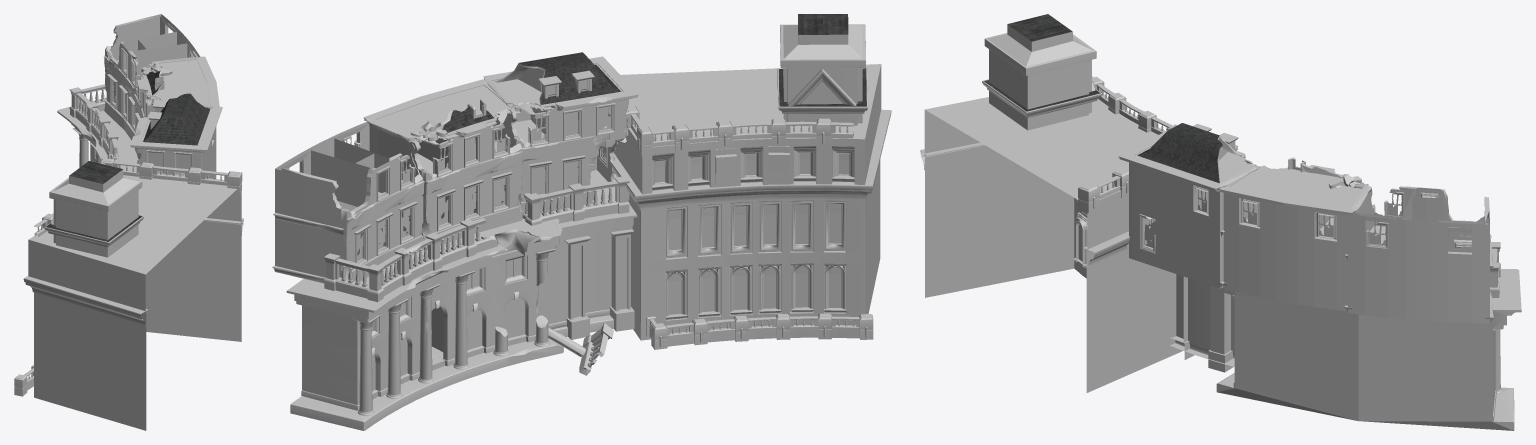
Rendered from Boss_Buildinga.fbx.
The picture shows the model from 3 angles, left to right: view 1: azimuth 30°, elevation 25°; view 2: azimuth 150°, elevation 25°; view 3: azimuth 270°, elevation 25°; orthographic projection. The views are drawn at different scales.
Parts seen in each view (by area): view 1: LODGroup_1_MainMesh_1_SubMesh_7, LODGroup_1_MainMesh_1_SubMesh_3, LODGroup_1_MainMesh_1_SubMesh_5, LODGroup_1_MainMesh_1_SubMesh_6, LODGroup_1_MainMesh_1_SubMesh_1, LODGroup_1_MainMesh_1_SubMesh_2, LODGroup_1_MainMesh_1_SubMesh_8, LODGroup_1_MainMesh_1_SubMesh_4; view 2: LODGroup_1_MainMesh_1_SubMesh_7, LODGroup_1_MainMesh_1_SubMesh_5, LODGroup_1_MainMesh_1_SubMesh_3, LODGroup_1_MainMesh_1_SubMesh_4, LODGroup_1_MainMesh_1_SubMesh_1, LODGroup_1_MainMesh_1_SubMesh_8, LODGroup_1_MainMesh_1_SubMesh_2, LODGroup_1_MainMesh_1_SubMesh_6, LODGroup_1_MainMesh_1_SubMesh_10; view 3: LODGroup_1_MainMesh_1_SubMesh_7, LODGroup_1_MainMesh_1_SubMesh_3, LODGroup_1_MainMesh_1_SubMesh_5, LODGroup_1_MainMesh_1_SubMesh_2, LODGroup_1_MainMesh_1_SubMesh_6, LODGroup_1_MainMesh_1_SubMesh_1, LODGroup_1_MainMesh_1_SubMesh_4, LODGroup_1_MainMesh_1_SubMesh_8.
Boxes of the visible parts, box(x1,y1,x2,y2) form: LODGroup_1_MainMesh_1_SubMesh_7: box(27, 14, 242, 430); LODGroup_1_MainMesh_1_SubMesh_3: box(29, 14, 236, 274); LODGroup_1_MainMesh_1_SubMesh_5: box(23, 48, 243, 390); LODGroup_1_MainMesh_1_SubMesh_6: box(46, 71, 210, 241); LODGroup_1_MainMesh_1_SubMesh_1: box(110, 15, 196, 170); LODGroup_1_MainMesh_1_SubMesh_2: box(14, 100, 242, 396); LODGroup_1_MainMesh_1_SubMesh_8: box(28, 89, 227, 379); LODGroup_1_MainMesh_1_SubMesh_4: box(113, 66, 189, 172); LODGroup_1_MainMesh_1_SubMesh_7: box(275, 24, 888, 430); LODGroup_1_MainMesh_1_SubMesh_5: box(294, 56, 891, 410); LODGroup_1_MainMesh_1_SubMesh_3: box(272, 63, 880, 375); LODGroup_1_MainMesh_1_SubMesh_4: box(346, 80, 849, 365); LODGroup_1_MainMesh_1_SubMesh_1: box(279, 107, 615, 272); LODGroup_1_MainMesh_1_SubMesh_8: box(326, 117, 859, 415); LODGroup_1_MainMesh_1_SubMesh_2: box(538, 70, 873, 349); LODGroup_1_MainMesh_1_SubMesh_6: box(442, 14, 866, 132); LODGroup_1_MainMesh_1_SubMesh_10: box(666, 264, 846, 319); LODGroup_1_MainMesh_1_SubMesh_7: box(922, 24, 1521, 430); LODGroup_1_MainMesh_1_SubMesh_3: box(925, 97, 1493, 322); LODGroup_1_MainMesh_1_SubMesh_5: box(920, 76, 1503, 418); LODGroup_1_MainMesh_1_SubMesh_2: box(1078, 77, 1238, 372); LODGroup_1_MainMesh_1_SubMesh_6: box(984, 14, 1222, 183); LODGroup_1_MainMesh_1_SubMesh_1: box(1145, 187, 1489, 252); LODGroup_1_MainMesh_1_SubMesh_4: box(1078, 189, 1471, 263); LODGroup_1_MainMesh_1_SubMesh_8: box(1097, 86, 1502, 394).
Bounding box in the file's own units: 4357 × 3040 × 6015.
